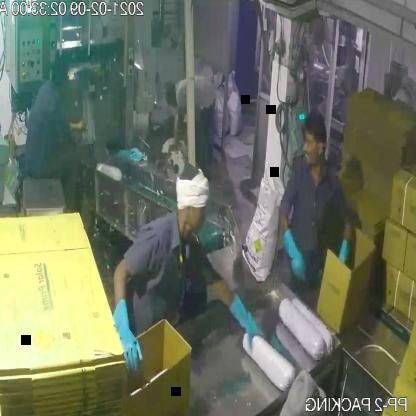glove: (110, 287, 150, 377), (221, 292, 270, 360), (270, 224, 318, 293)
